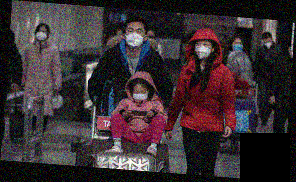with_mask: (124, 26, 146, 48), (194, 40, 213, 60), (130, 87, 149, 101), (35, 27, 49, 41), (230, 40, 243, 50), (263, 38, 273, 50)
